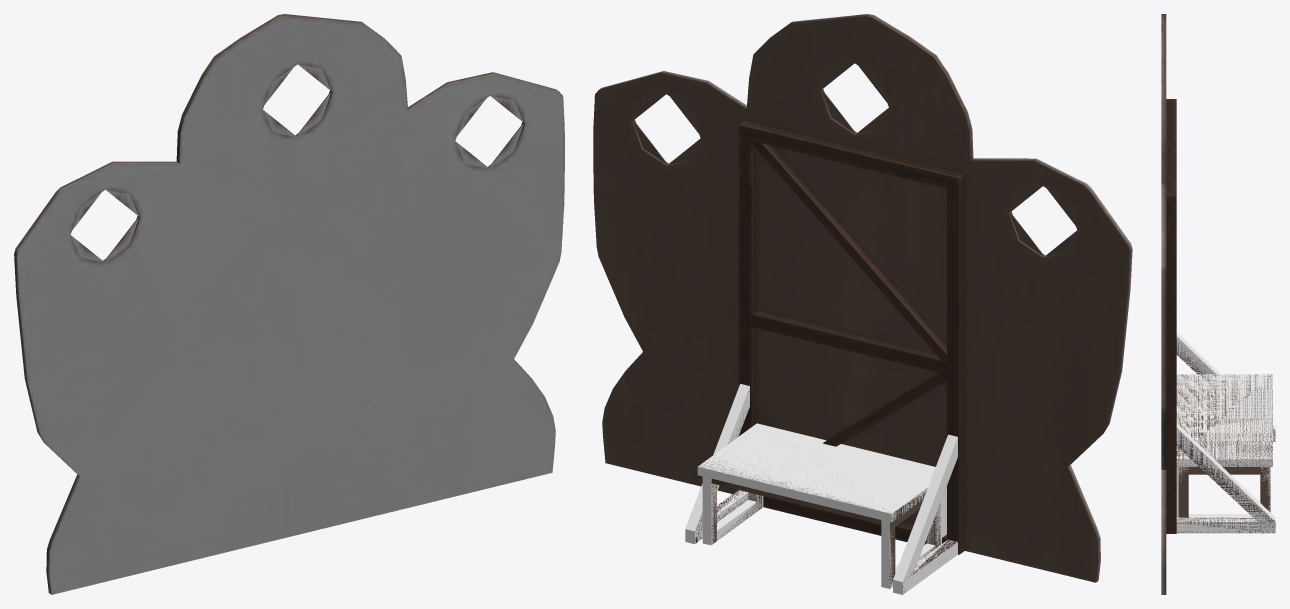
File: objects_un_faceinthree01.gltf
3 views of the same model, side by side, from view 1: azimuth 30°, elevation 25°; view 2: azimuth 150°, elevation 25°; view 3: azimuth 270°, elevation 25° (orthographic). The views are drawn at different scales.
Visible parts, largest first — view 1: um_objects_un_faceinthree01_model_lod0Shape:objects_un_facei, um_objects_un_faceinthree01_model_lod1Shape:objects_un_facei, um_objects_un_faceinthree01_model_lod2Shape:objects_un_facei; view 2: um_objects_un_faceinthree01_model_lod0Shape:objects_un_facei (×2), um_objects_un_faceinthree01_model_lod1Shape:objects_un_facei, um_objects_un_faceinthree01_model_lod2Shape:objects_un_facei; view 3: um_objects_un_faceinthree01_model_lod0Shape:objects_un_facei (×2), um_objects_un_faceinthree01_model_lod1Shape:objects_un_facei.
Boxes of the visible parts, box(x1,y1,x2,y2) form: um_objects_un_faceinthree01_model_lod0Shape:objects_un_facei: box(14, 14, 564, 594); um_objects_un_faceinthree01_model_lod1Shape:objects_un_facei: box(18, 17, 564, 594); um_objects_un_faceinthree01_model_lod2Shape:objects_un_facei: box(71, 64, 523, 261); um_objects_un_faceinthree01_model_lod0Shape:objects_un_facei (×2): box(593, 14, 1132, 594); um_objects_un_faceinthree01_model_lod1Shape:objects_un_facei: box(593, 17, 1128, 581); um_objects_un_faceinthree01_model_lod2Shape:objects_un_facei: box(633, 63, 1076, 588); um_objects_un_faceinthree01_model_lod0Shape:objects_un_facei (×2): box(1161, 14, 1275, 594); um_objects_un_faceinthree01_model_lod1Shape:objects_un_facei: box(1161, 183, 1270, 517).
Size of the model in its own units: 2.19 by 2 by 0.45.
2 materials, 1 textured.
